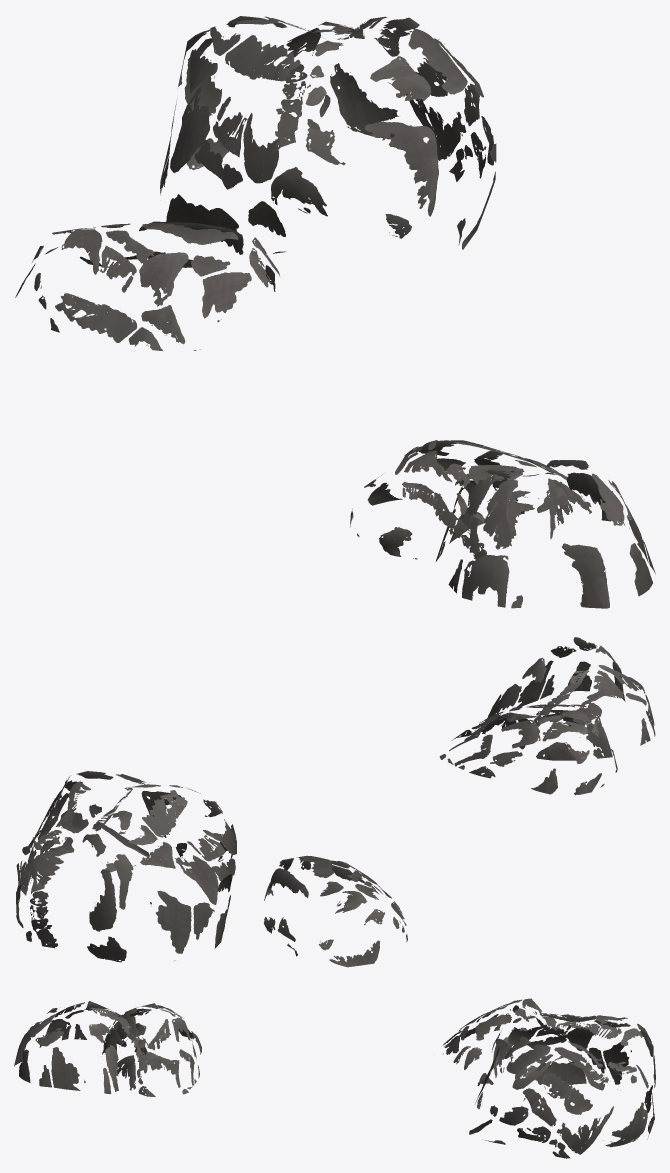
The model's file is SM_ENV_LKNVLD_RockMiddle_D.FBX.
The picture shows the model from 3 angles, top to bottom: view 1: azimuth 30°, elevation 25°; view 2: azimuth 150°, elevation 25°; view 3: azimuth 270°, elevation 25°; orthographic projection. The views are drawn at different scales.
Parts seen in each view (by area): view 1: SM_ENV_LKNVLD_RockMiddle_D; view 2: SM_ENV_LKNVLD_RockMiddle_D; view 3: SM_ENV_LKNVLD_RockMiddle_D.
Boxes of the visible parts, <box> form: SM_ENV_LKNVLD_RockMiddle_D: <box>15,16,655,608</box>; SM_ENV_LKNVLD_RockMiddle_D: <box>16,637,655,967</box>; SM_ENV_LKNVLD_RockMiddle_D: <box>14,998,655,1158</box>.
Bounding box in the file's own units: 413 × 150 × 856.
